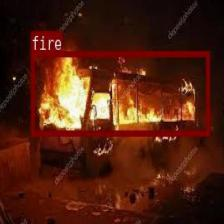fire: (30, 51, 209, 134)
